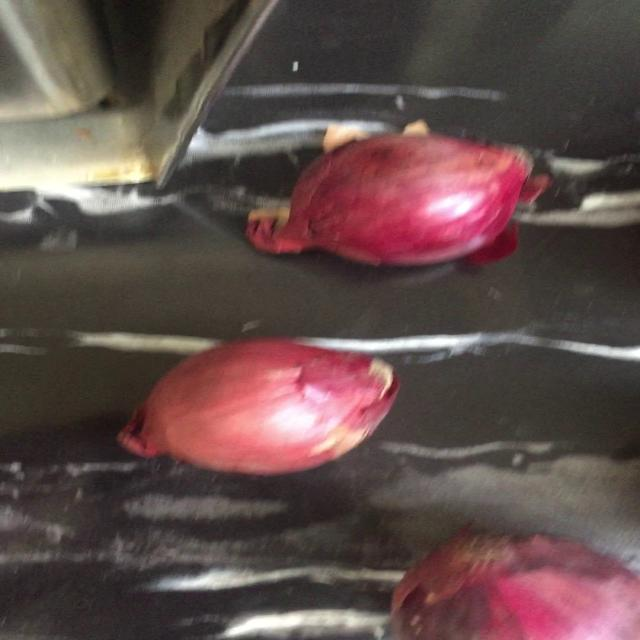Onion: (245, 134, 548, 265), (121, 338, 398, 476), (391, 526, 639, 640)
